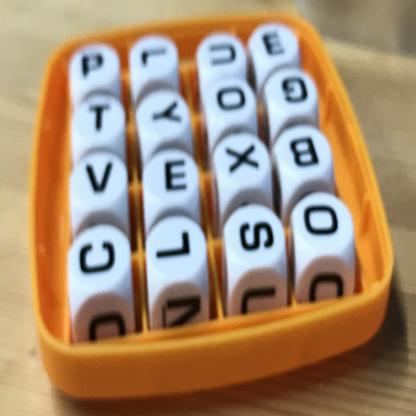b: (283, 127, 333, 184)
c: (70, 227, 132, 299)
e: (151, 154, 196, 207), (254, 25, 297, 63)
g: (275, 69, 315, 117)
l: (153, 220, 205, 281), (136, 38, 177, 78)
o: (296, 192, 357, 262), (207, 80, 257, 126)
p: (69, 40, 120, 89)
s: (231, 206, 283, 271)
t: (81, 97, 122, 145)
u: (201, 32, 244, 79)
v: (76, 154, 128, 210)
x: (217, 127, 270, 196)
y: (139, 87, 189, 144)
